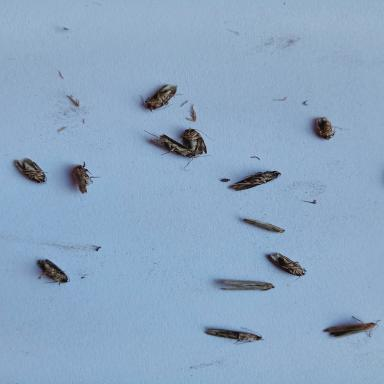pbw: (320, 313, 382, 340), (264, 251, 308, 287), (136, 83, 186, 113), (6, 156, 56, 184), (226, 169, 284, 192), (65, 160, 103, 195), (29, 257, 73, 287), (178, 125, 217, 158), (203, 326, 266, 345), (212, 276, 280, 292), (313, 116, 353, 141), (239, 217, 289, 234)
